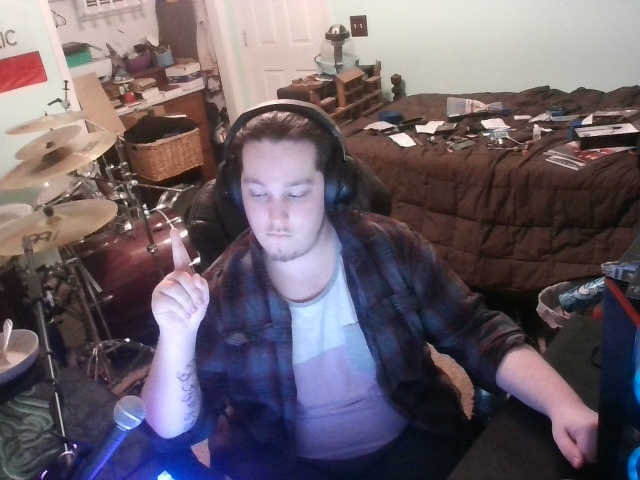up: (121, 208, 235, 350)
